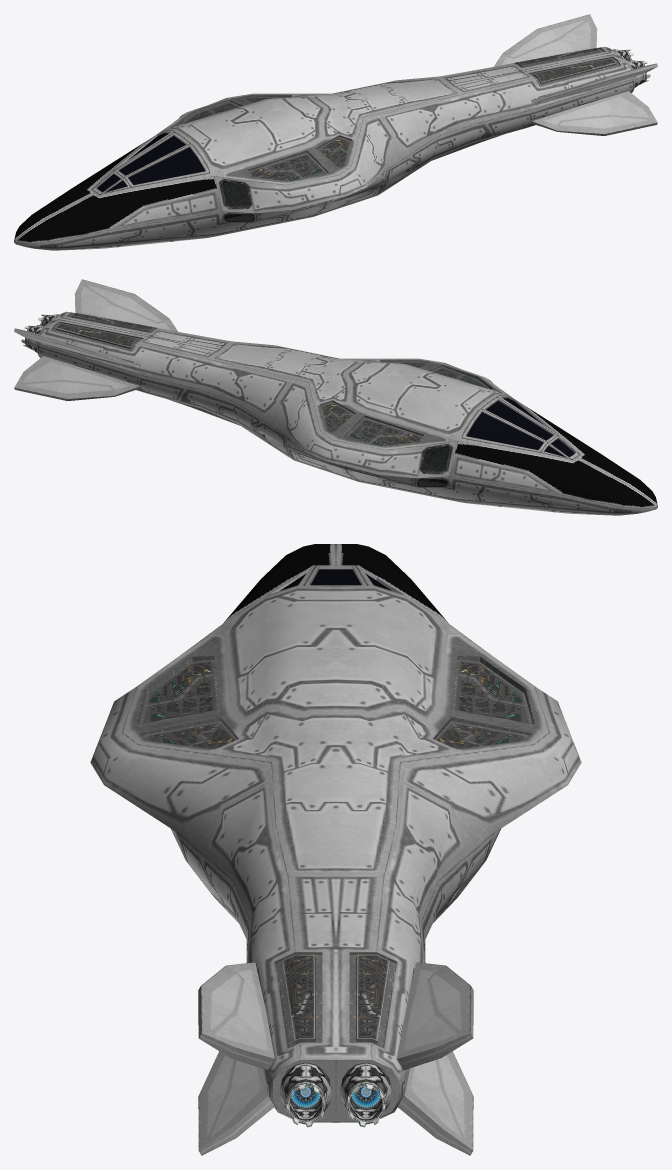
The model's file is ship3.obj.
3 renders of one model, top to bottom at view 1: azimuth 30°, elevation 25°; view 2: azimuth 150°, elevation 25°; view 3: azimuth 270°, elevation 25°, orthographic. The views are drawn at different scales.
Parts seen in each view (by area): view 1: Earth_Fighter_Mesh; view 2: Earth_Fighter_Mesh; view 3: Earth_Fighter_Mesh.
Part boxes in pixels (left/top/right/bottom): Earth_Fighter_Mesh: left=14, top=14, right=657, bottom=250; Earth_Fighter_Mesh: left=14, top=279, right=657, bottom=515; Earth_Fighter_Mesh: left=90, top=544, right=581, bottom=1155.
Size of the model in its own units: 14.08 by 2.12 by 4.8.
Materials: 2 (1 with a texture image).
